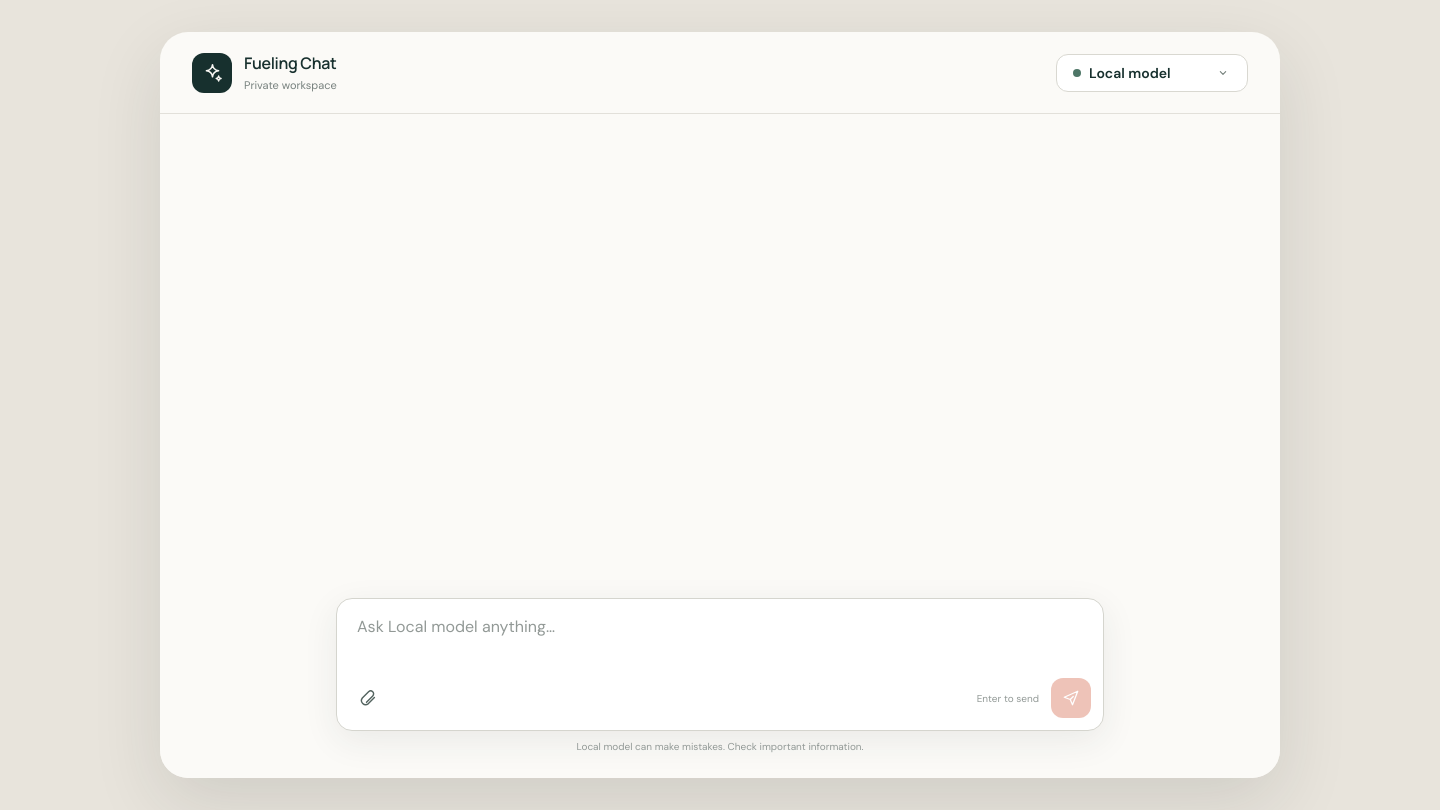
it: App › disables the send button while the input is empty
Check: the button named "Send message" is disabled, box x1=1051 y1=678 x2=1091 y2=718
In the text box named "Message": coordinates (720, 639) x1=345 y1=607 x2=1095 y2=671, type "F-10001"
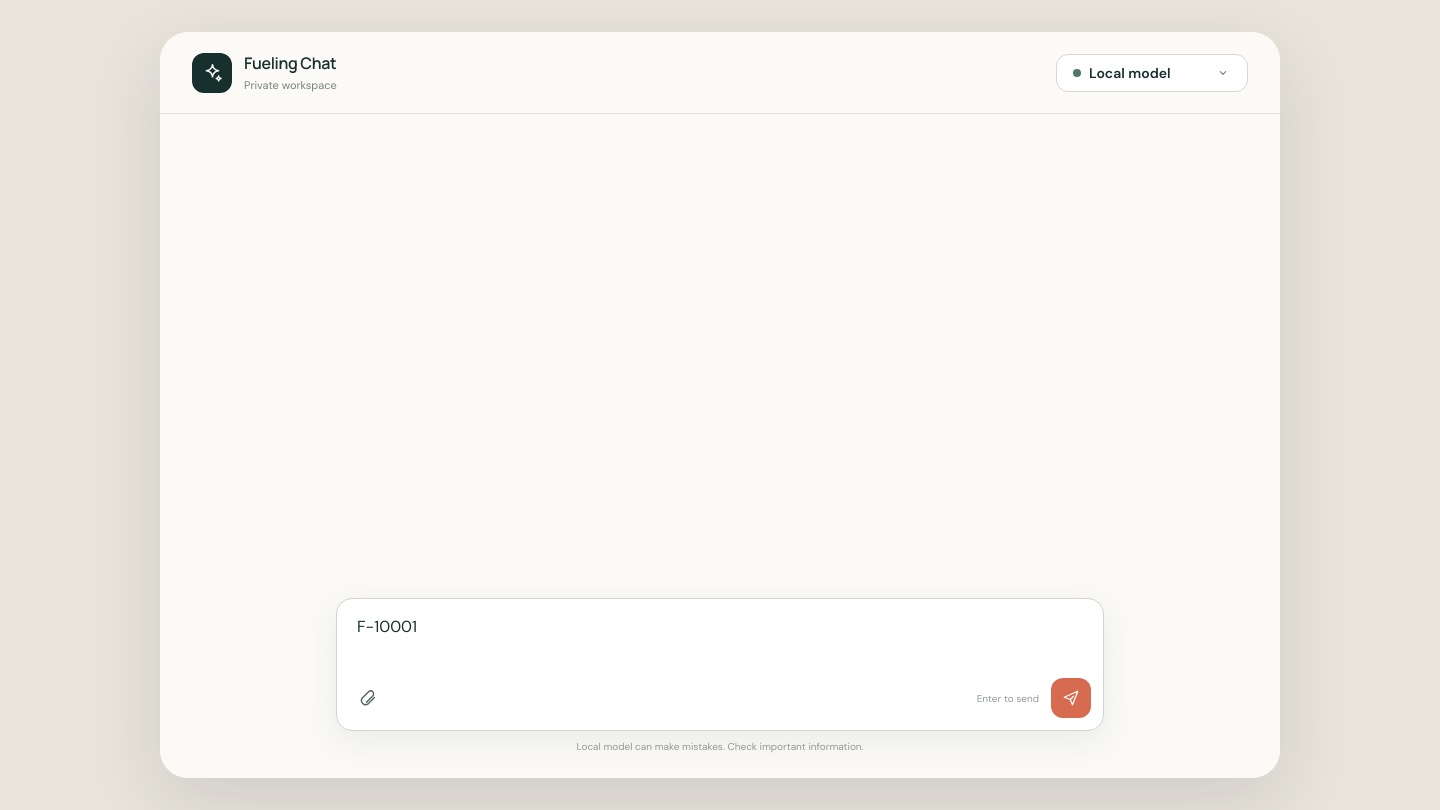
Check: the button named "Send message" is enabled, box x1=1051 y1=678 x2=1091 y2=718
